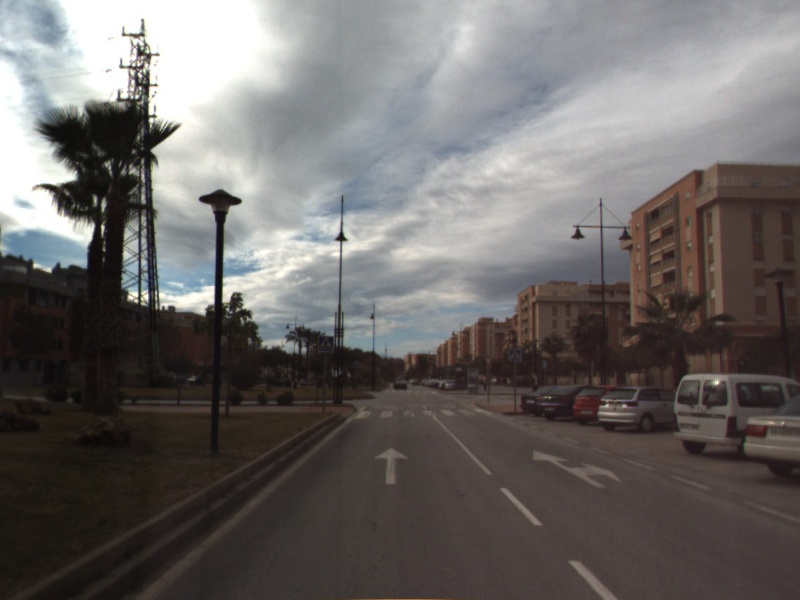STRAIGHT: (373, 446, 411, 486)
STRAIGHT_RIGHT: (531, 448, 624, 490)
